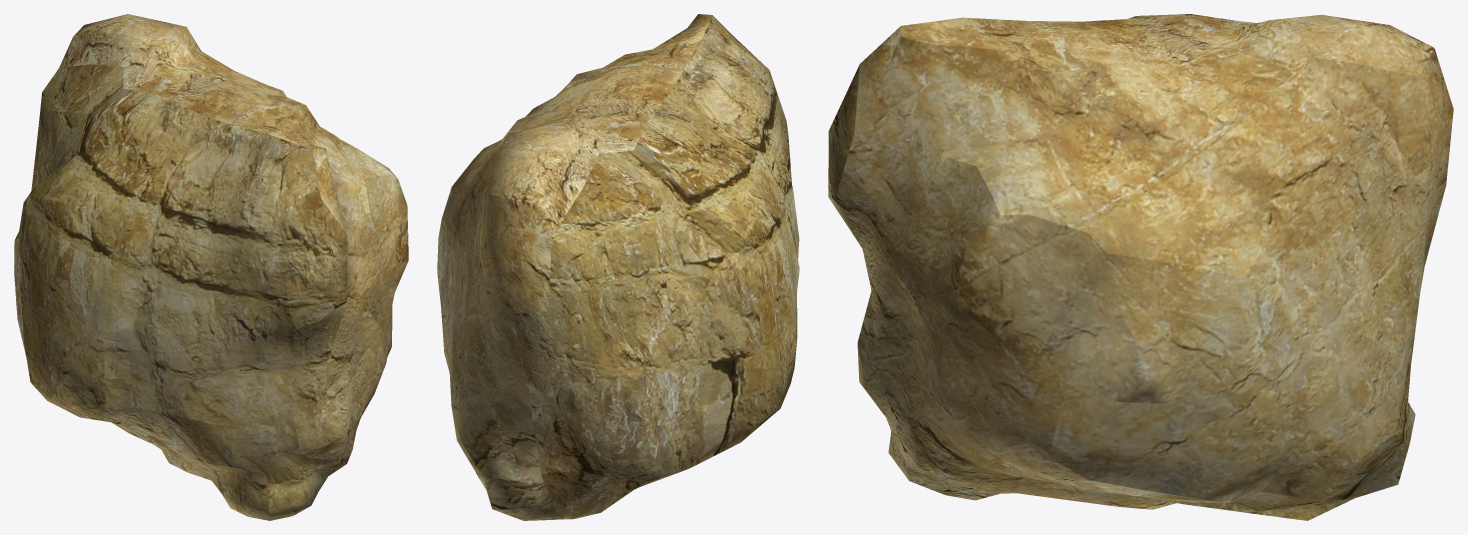
The model's file is Rock 4.FBX.
3 views of the same model, side by side, from view 1: azimuth 30°, elevation 25°; view 2: azimuth 150°, elevation 25°; view 3: azimuth 270°, elevation 25° (orthographic). The views are drawn at different scales.
Visible parts, largest first — view 1: RockMesh; view 2: RockMesh; view 3: RockMesh.
Part boxes in pixels (x1=…): RockMesh: x1=14, y1=14, x2=408, y2=520; RockMesh: x1=437, y1=14, x2=799, y2=520; RockMesh: x1=828, y1=14, x2=1453, y2=520.
Bounding box in the file's own units: 205 × 222 × 262.
1 material, 1 textured.
